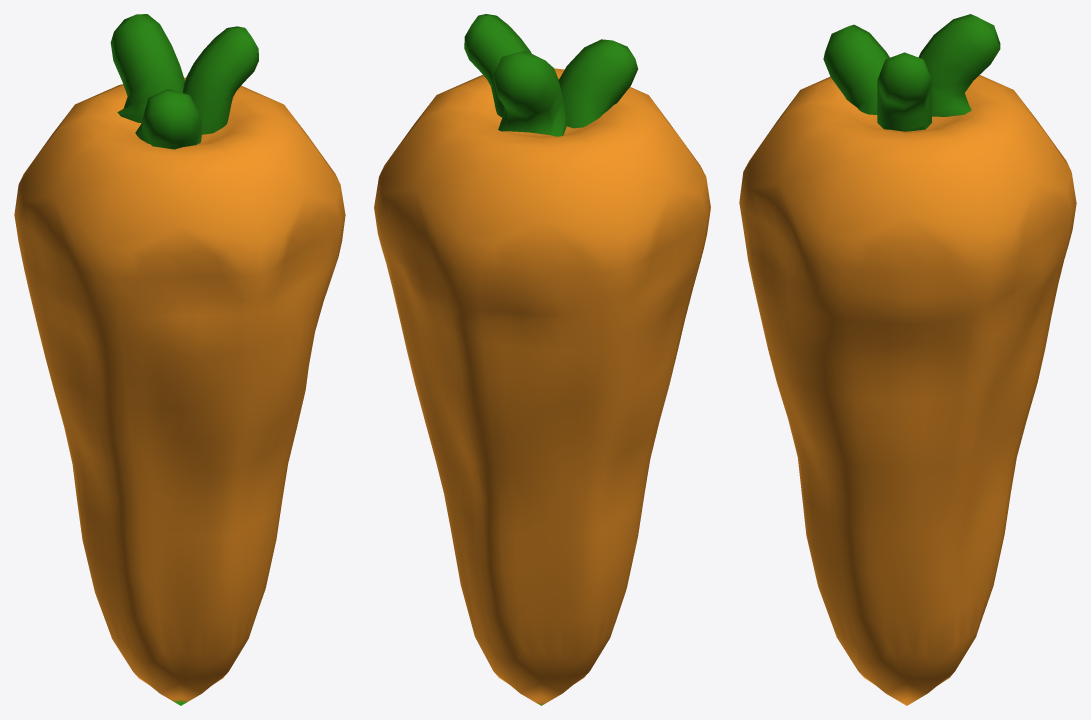
File: Carrot.fbx
3 views of the same model, side by side, from view 1: azimuth 30°, elevation 25°; view 2: azimuth 150°, elevation 25°; view 3: azimuth 270°, elevation 25° (orthographic). The views are drawn at different scales.
Parts seen in each view (by area): view 1: Carrot; view 2: Carrot; view 3: Carrot.
Boxes of the visible parts, x1,y1,x2,y2 form: Carrot: [14, 14, 345, 705]; Carrot: [374, 14, 710, 705]; Carrot: [739, 14, 1076, 705].
Bounding box in the file's own units: 159 × 378 × 169.
